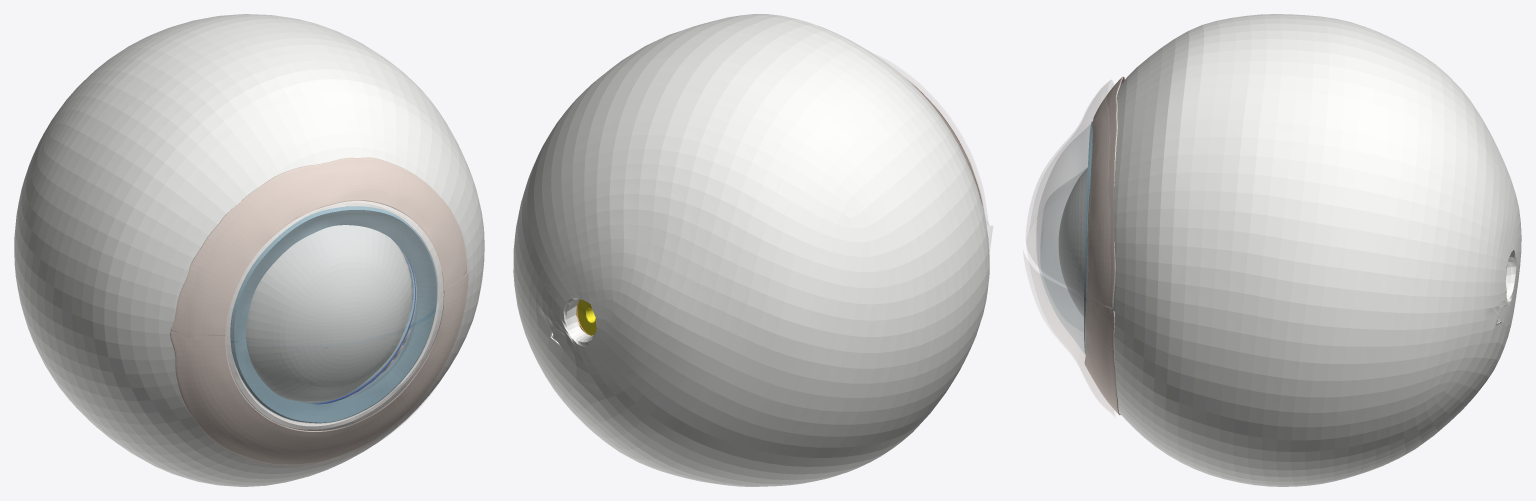
Rendered from 3DPX-020963.glb.
3 renders of one model, left to right at view 1: azimuth 30°, elevation 25°; view 2: azimuth 150°, elevation 25°; view 3: azimuth 270°, elevation 25°, orthographic.
Visible parts, largest first — view 1: VH_F_sclera_R, VH_F_palpebral_conjunctiva_of_right_lower_eyelid, VH_F_aqueous_humor_R, VH_F_cornea_R, VH_F_bulbar_conjunctiva_R; view 2: VH_F_sclera_R, VH_F_palpebral_conjunctiva_of_right_lower_eyelid, VH_F_aqueous_humor_R; view 3: VH_F_sclera_R, VH_F_palpebral_conjunctiva_of_right_lower_eyelid, VH_F_bulbar_conjunctiva_R, VH_F_cornea_R, VH_F_aqueous_humor_R.
Boxes of the visible parts, x1,y1,x2,y2 form: VH_F_sclera_R: [14, 14, 484, 486]; VH_F_palpebral_conjunctiva_of_right_lower_eyelid: [175, 162, 473, 467]; VH_F_aqueous_humor_R: [230, 206, 437, 423]; VH_F_cornea_R: [231, 207, 437, 422]; VH_F_bulbar_conjunctiva_R: [169, 157, 468, 464]; VH_F_sclera_R: [513, 14, 989, 486]; VH_F_palpebral_conjunctiva_of_right_lower_eyelid: [875, 54, 992, 248]; VH_F_aqueous_humor_R: [576, 299, 596, 335]; VH_F_sclera_R: [1085, 14, 1521, 486]; VH_F_palpebral_conjunctiva_of_right_lower_eyelid: [1023, 80, 1115, 417]; VH_F_bulbar_conjunctiva_R: [1084, 76, 1124, 414]; VH_F_cornea_R: [1037, 124, 1091, 353]; VH_F_aqueous_humor_R: [1058, 121, 1092, 353].
Bounding box in the file's own units: 0.0245 × 0.0244 × 0.0257.
Materials: 5 (5 with a texture image).
